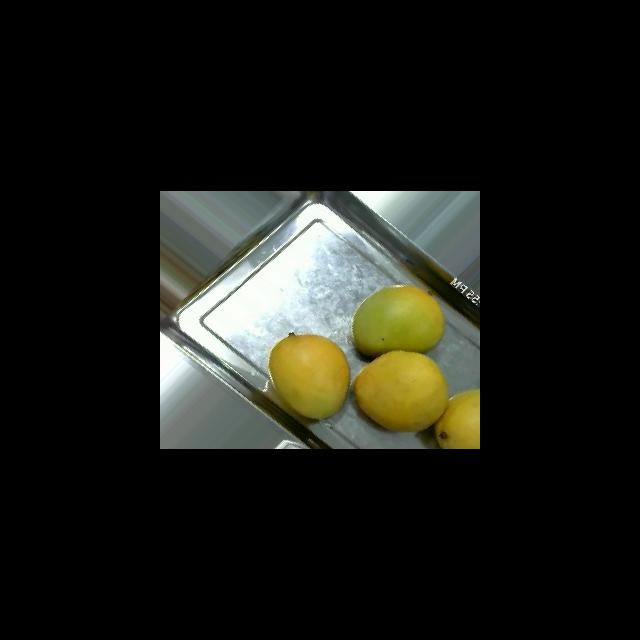mango: (352, 349, 448, 432), (267, 332, 350, 420), (351, 284, 445, 357), (433, 388, 479, 448)
